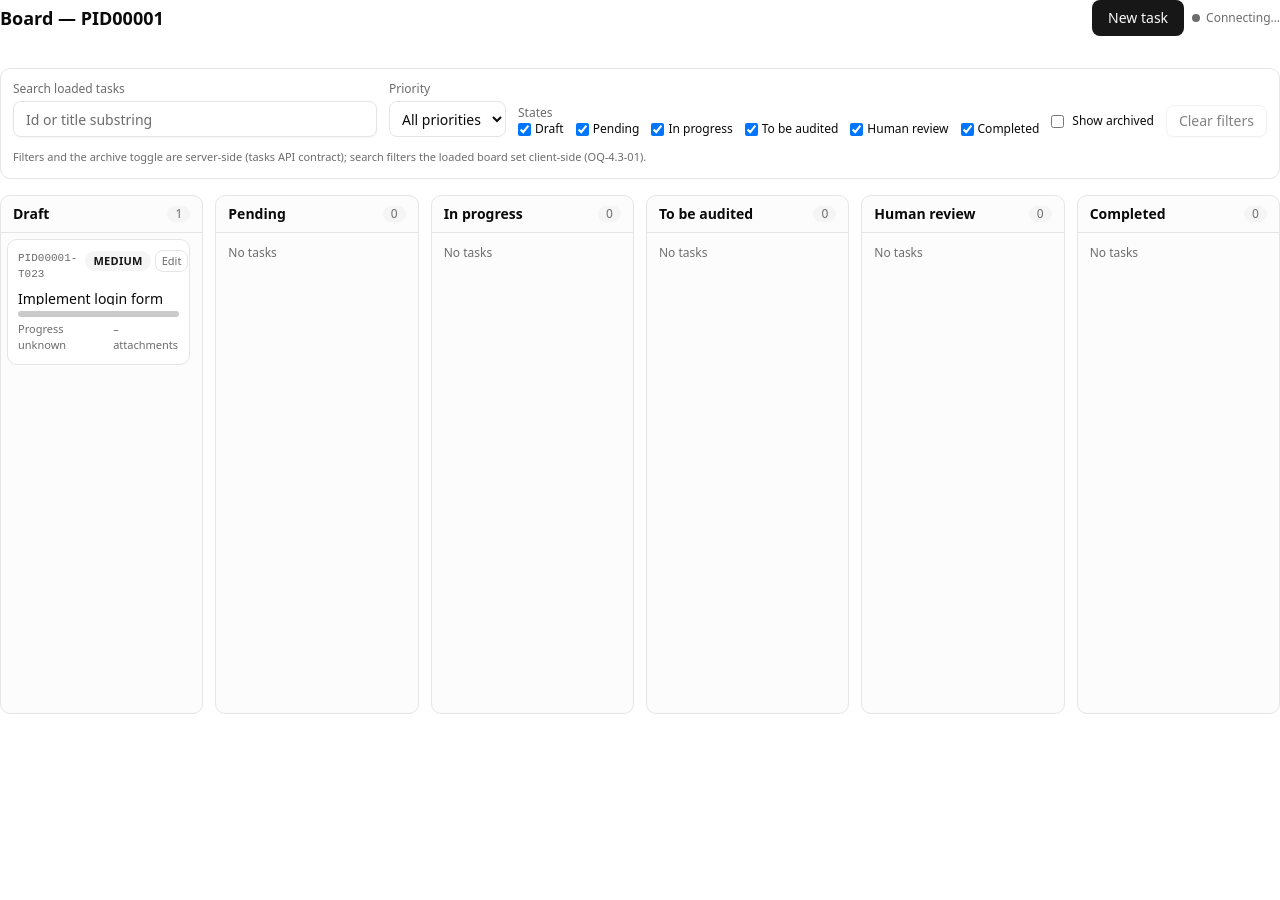
criteria-scope-editors › saves trimmed globs, reloads them unchanged, and mirrors the displayed scope set
This screenshot has width=1280, height=900.
Click the button with aria-label "Edit task PID00001-T023": coordinates (172, 261) x1=155 y1=250 x2=188 y2=272
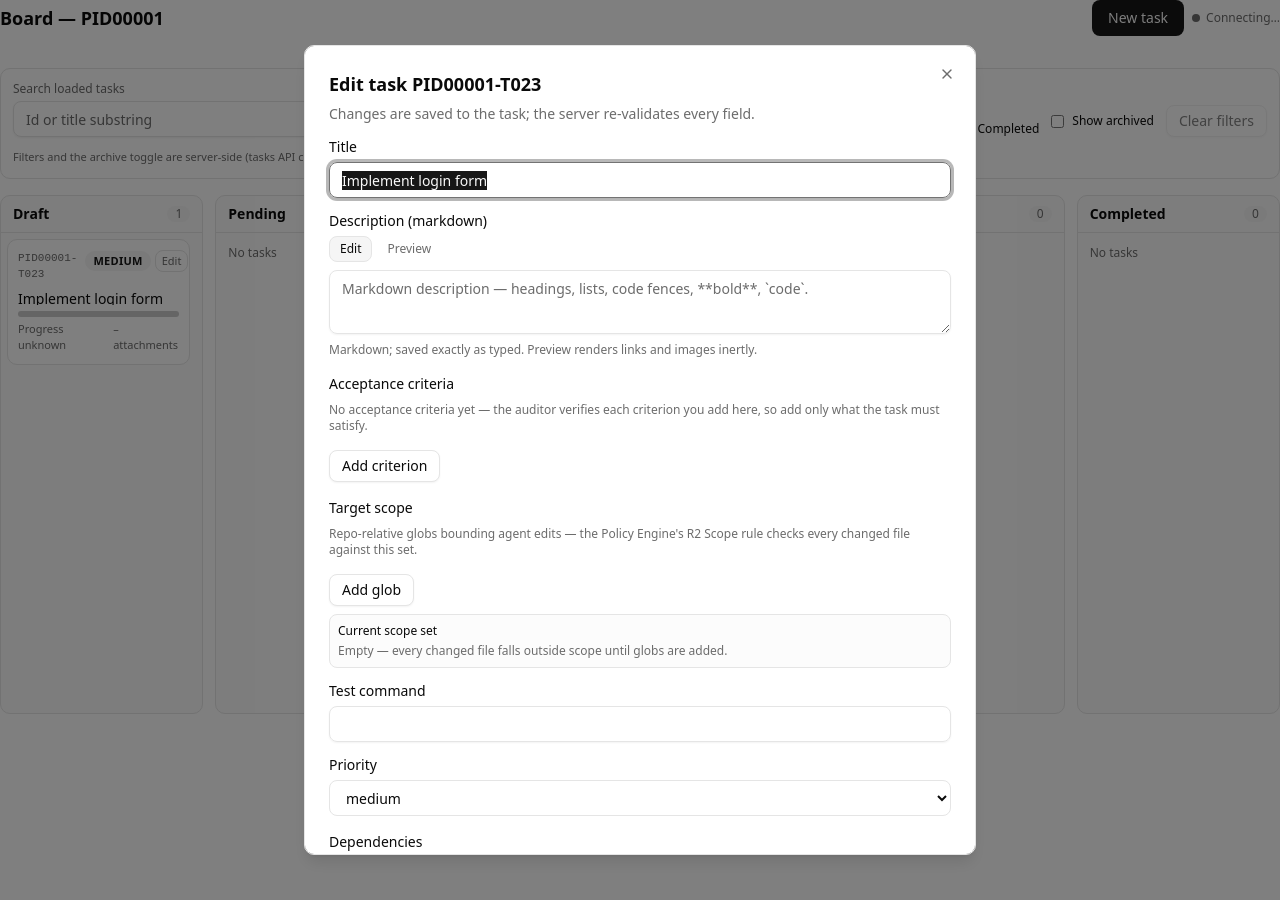
Click the button with test id "scope-add": coordinates (372, 590) x1=329 y1=574 x2=414 y2=606
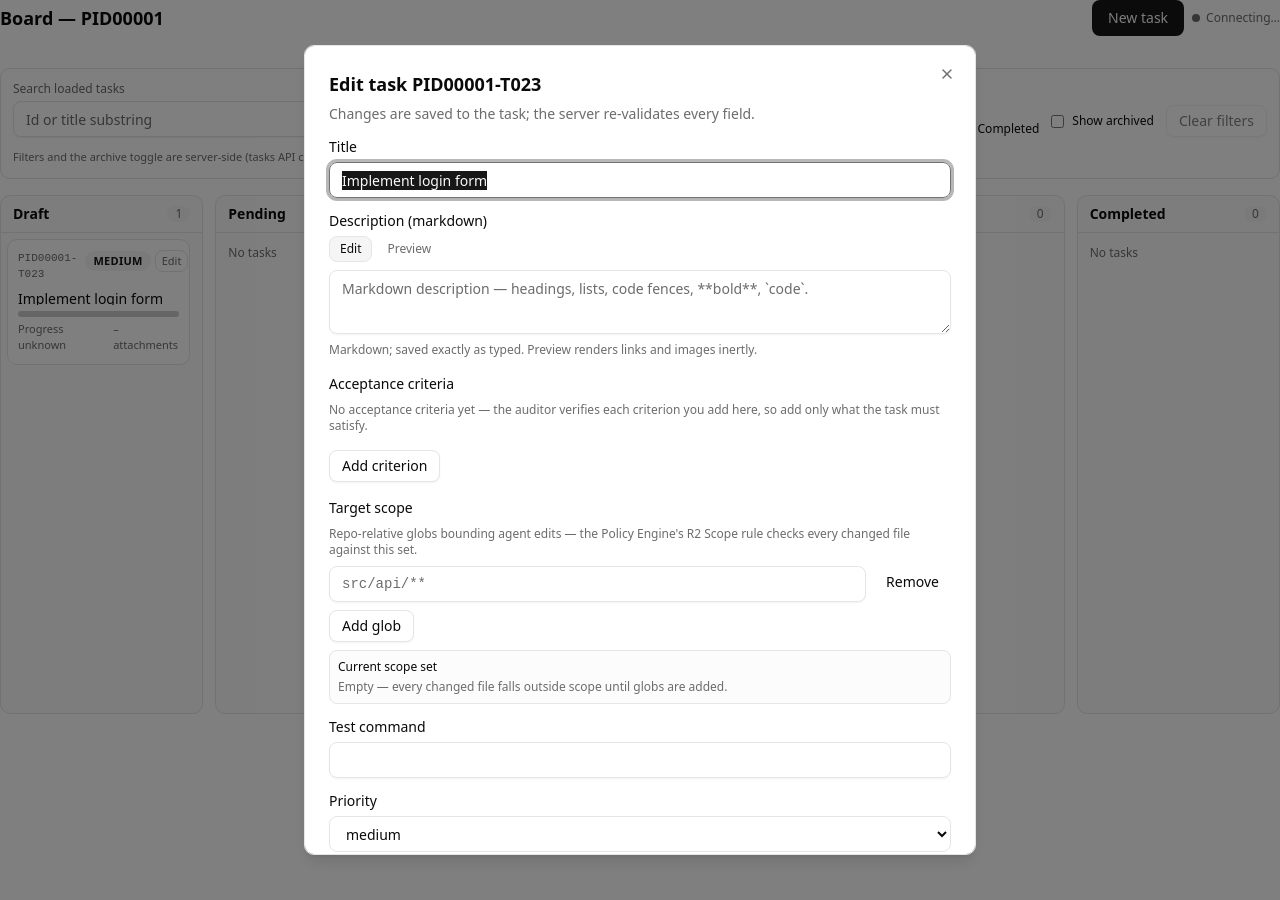
In the field named "Scope glob 1": coordinates (598, 584) x1=329 y1=566 x2=866 y2=602, type "  web/**  "
(page scrolled)
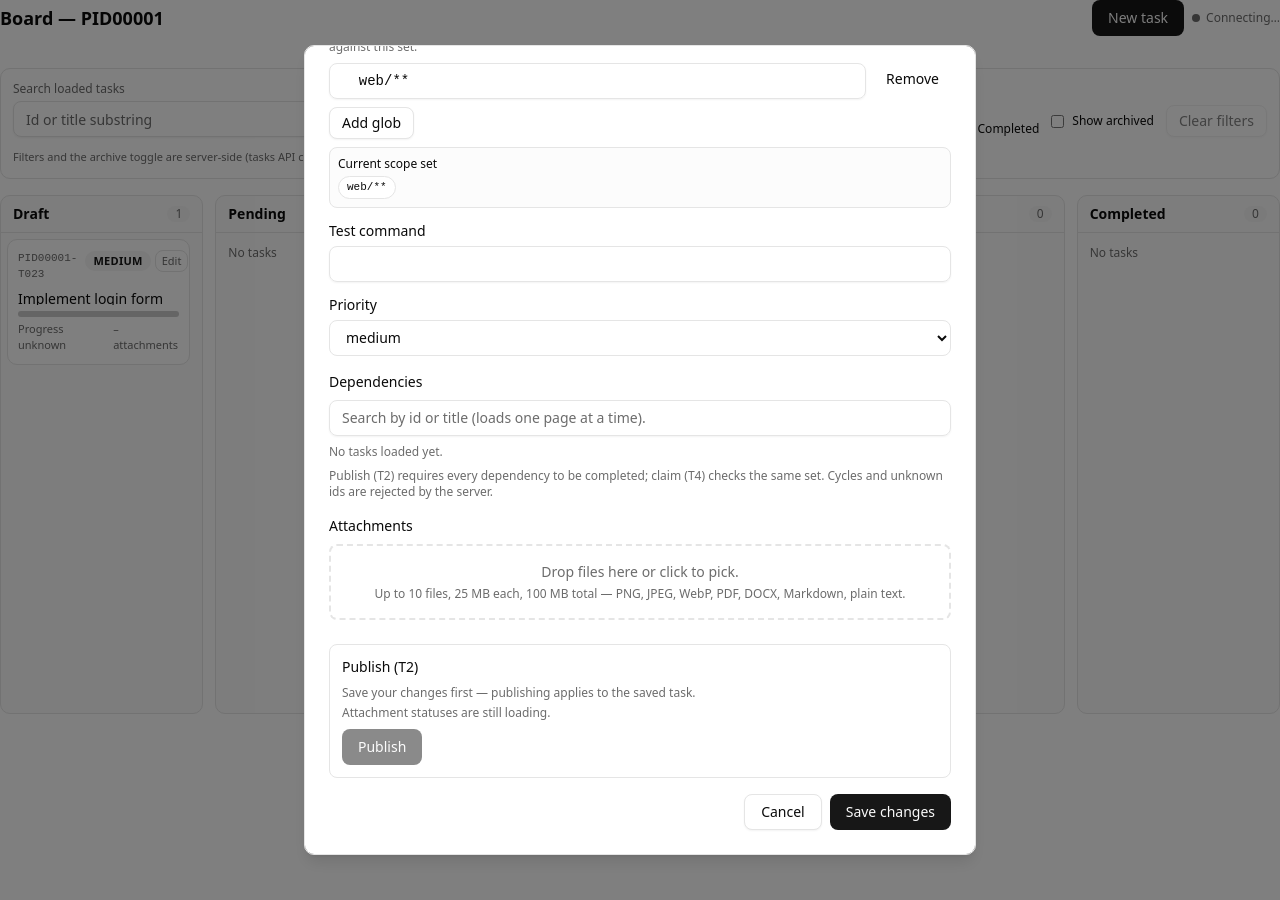
Click the button with test id "task-form-submit": coordinates (890, 812) x1=830 y1=794 x2=951 y2=830
(page scrolled)
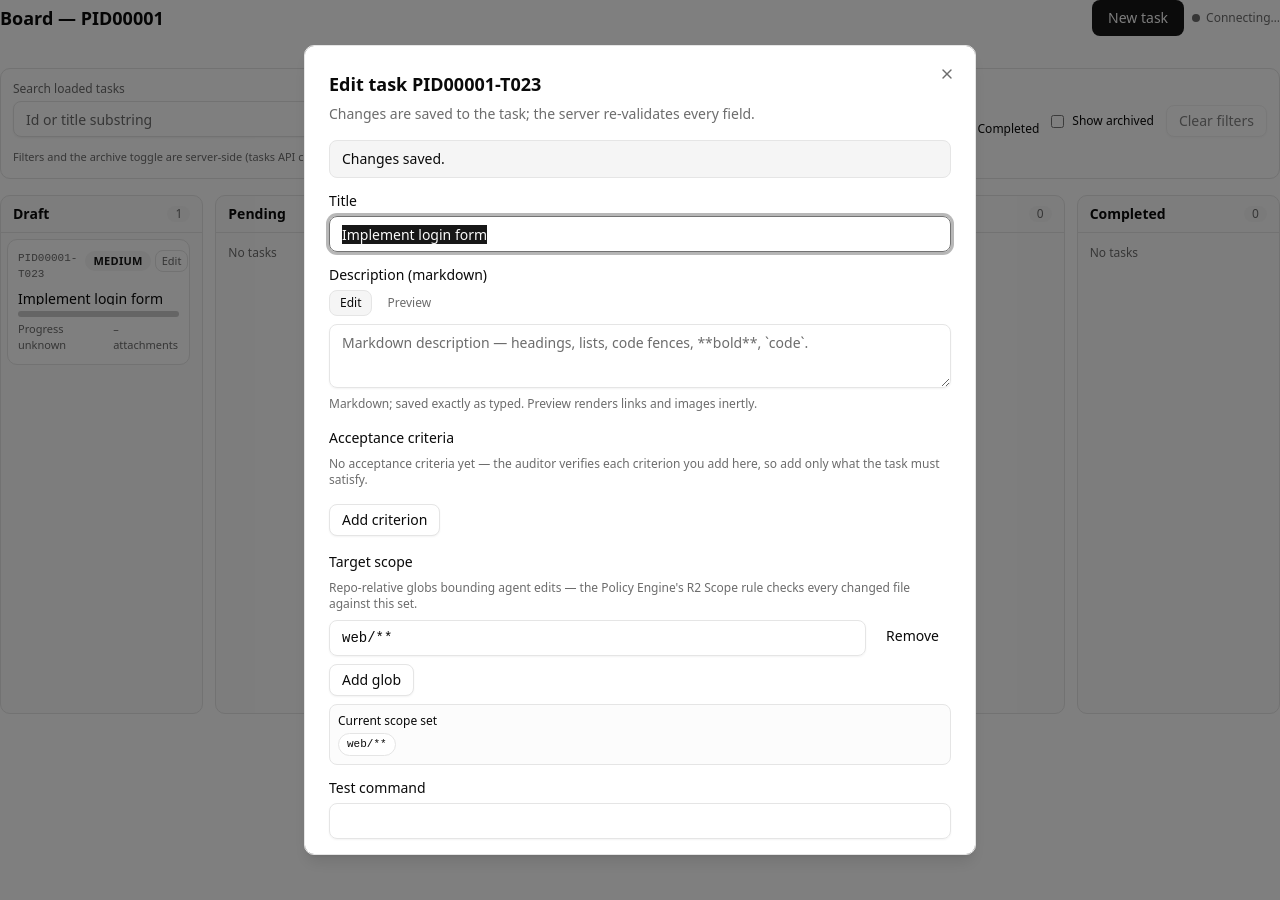
Now the list items read "web/**", in this order, box x1=338 y1=733 x2=396 y2=756
Now the text "Changes saved." is shown, box x1=329 y1=140 x2=951 y2=178
// Reload fidelity through a fresh mount.
Press Escape
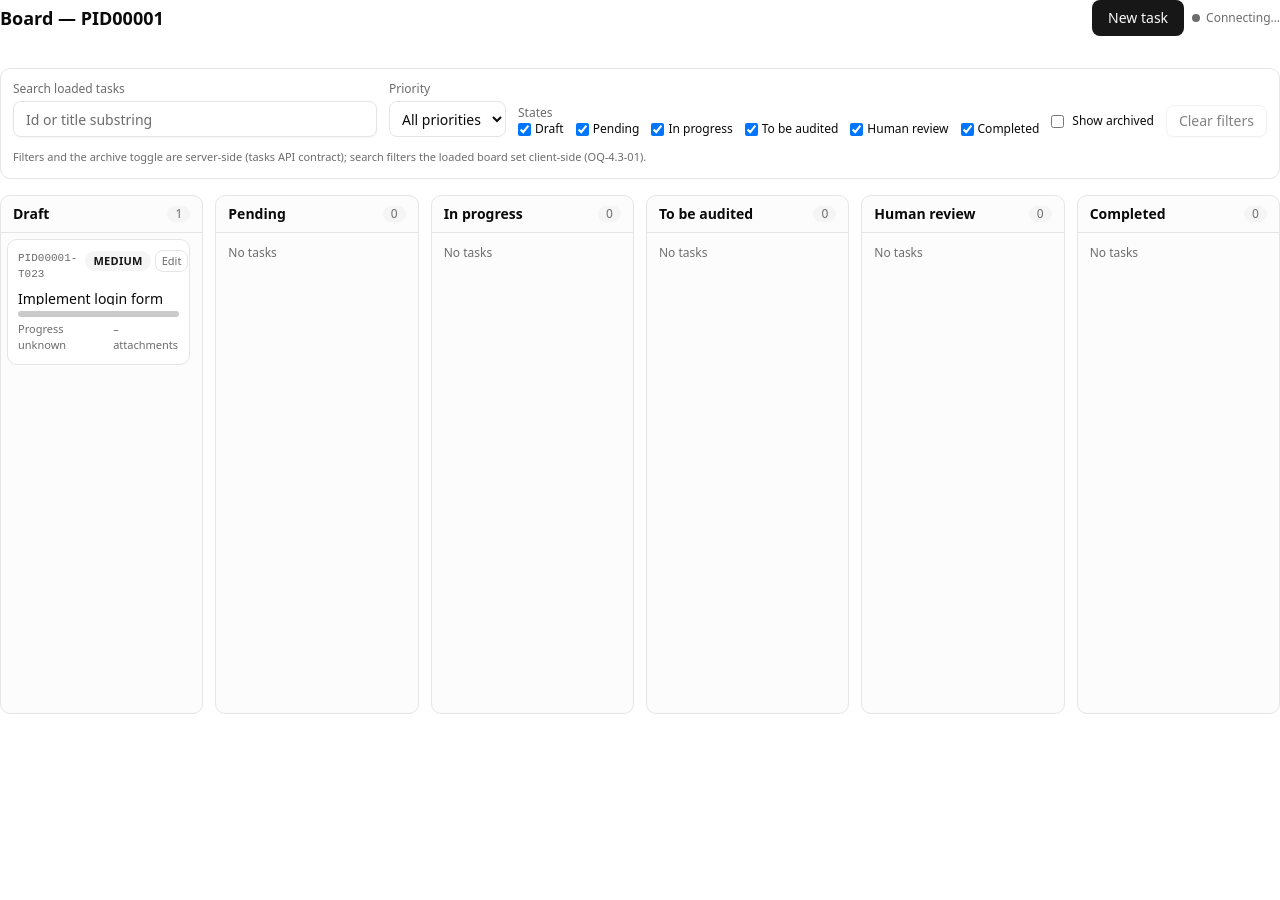
Now the dialog with test id "task-form-modal" is gone
Click the button with aria-label "Edit task PID00001-T023": coordinates (172, 261) x1=155 y1=250 x2=188 y2=272
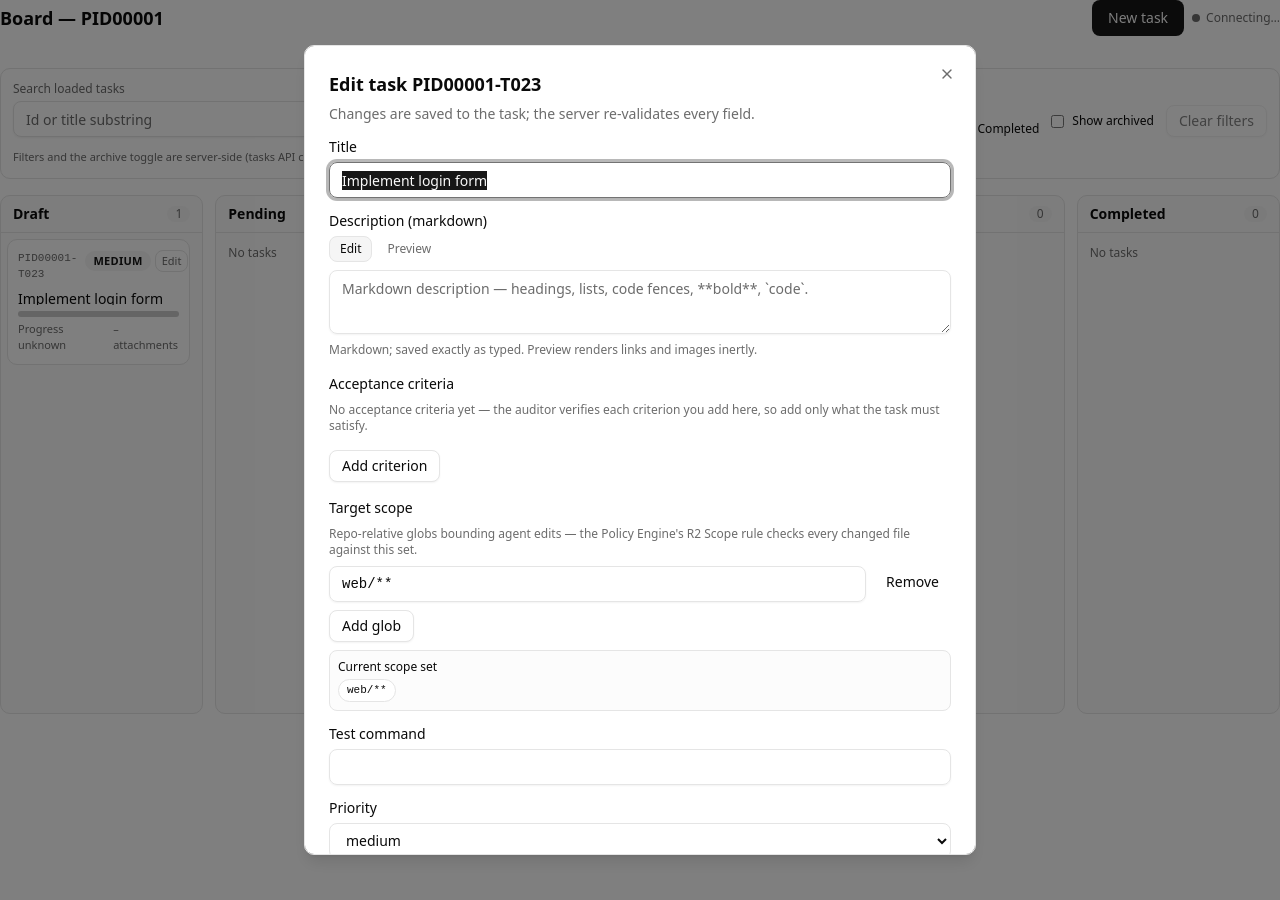
Now the field named "Scope glob 1" holds "web/**", box x1=329 y1=566 x2=866 y2=602
